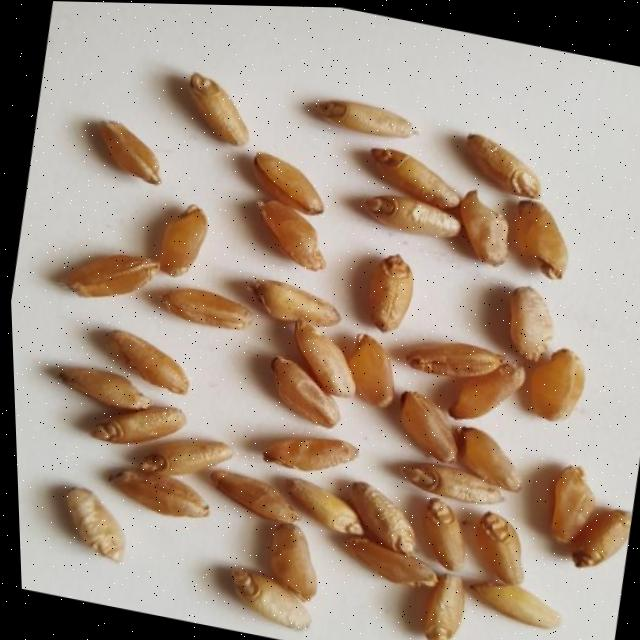wheat_grain: (370, 148, 460, 209), (105, 328, 189, 393), (344, 482, 418, 553), (209, 470, 304, 523), (462, 133, 539, 198), (256, 198, 326, 267), (232, 568, 312, 628), (272, 356, 340, 425), (110, 467, 207, 515), (63, 486, 124, 562), (510, 199, 567, 280), (187, 73, 250, 146), (346, 537, 441, 585), (449, 360, 526, 418), (252, 152, 324, 214), (286, 475, 361, 534), (92, 119, 160, 184), (457, 427, 522, 493), (295, 320, 352, 395), (525, 348, 583, 420), (58, 365, 152, 409), (61, 254, 159, 296), (253, 279, 340, 326), (468, 511, 523, 585), (469, 581, 559, 626), (399, 392, 457, 461), (457, 189, 508, 266), (313, 99, 415, 137), (266, 521, 315, 599), (362, 196, 457, 236), (159, 288, 254, 327), (157, 204, 209, 275), (366, 254, 413, 332), (126, 439, 230, 474), (346, 334, 395, 408), (508, 286, 553, 364), (550, 465, 594, 542), (263, 435, 356, 471), (406, 343, 509, 375), (94, 406, 184, 442), (573, 511, 631, 566), (421, 575, 465, 638)
